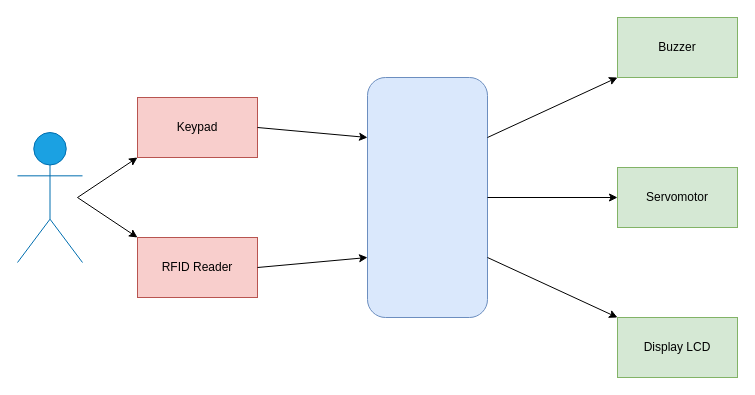
The diagram is 755 pixels wide and 395 high, and some of its shapes have lost their labels. The shapes that lost their labels are listed below. From the top down, each one's box as (x1, y1, x2, y2) in pixels, then its label:
(16, 132, 82, 262): User
(366, 76, 488, 318): Arduino
